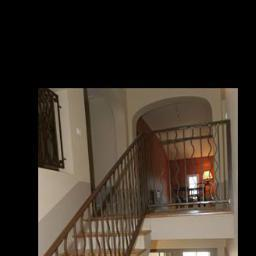Escaleras: (41, 137, 144, 256)
